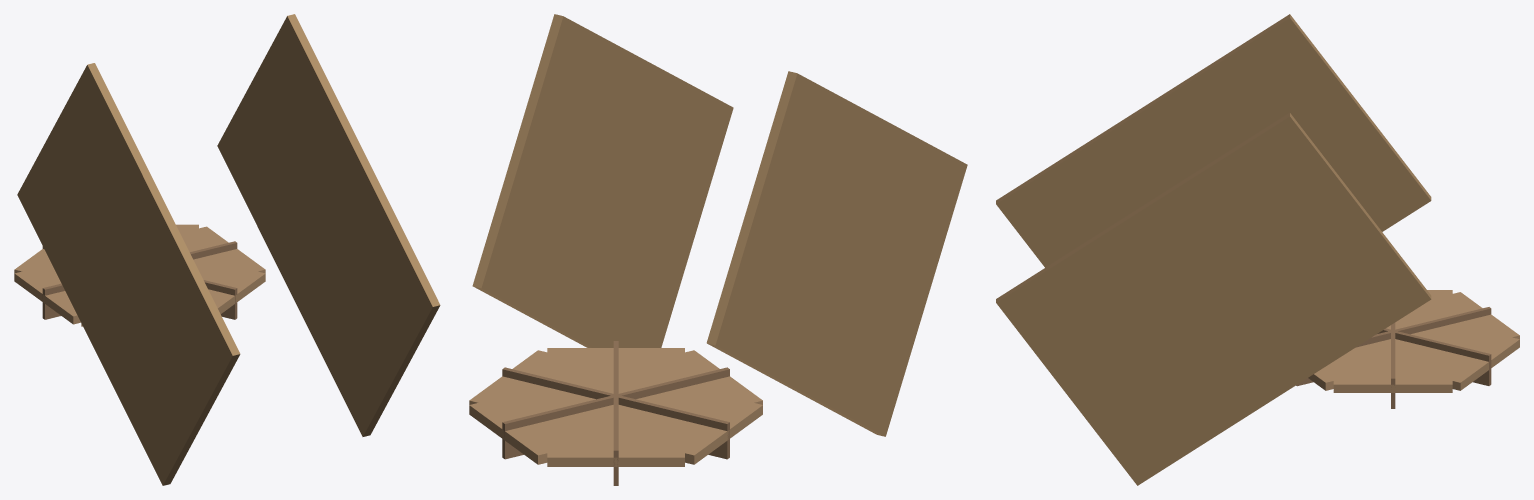
The model's file is stairs_wooden.glb.
3 views of the same model, side by side, from view 1: azimuth 30°, elevation 25°; view 2: azimuth 150°, elevation 25°; view 3: azimuth 270°, elevation 25° (orthographic). The views are drawn at different scales.
Visible parts, largest first — view 1: stringer_l, stringer_r, tread (×5), riser (×2); view 2: stringer_l, stringer_r, tread (×6), riser (×5); view 3: stringer_r, stringer_l, tread (×6), riser (×2).
Part boxes in pixels (bbox=[...]): stringer_l: bbox=[17, 63, 240, 485]; stringer_r: bbox=[217, 14, 440, 436]; tread (×5): bbox=[14, 224, 265, 324]; riser (×2): bbox=[42, 241, 237, 319]; stringer_l: bbox=[706, 71, 967, 436]; stringer_r: bbox=[472, 14, 733, 347]; tread (×6): bbox=[469, 348, 762, 466]; riser (×5): bbox=[502, 341, 729, 485]; stringer_r: bbox=[996, 113, 1431, 485]; stringer_l: bbox=[996, 14, 1431, 267]; tread (×6): bbox=[1308, 290, 1519, 392]; riser (×2): bbox=[1374, 307, 1491, 385].
Bounding box in the file's own units: 1.08 × 1.82 × 2.34.
